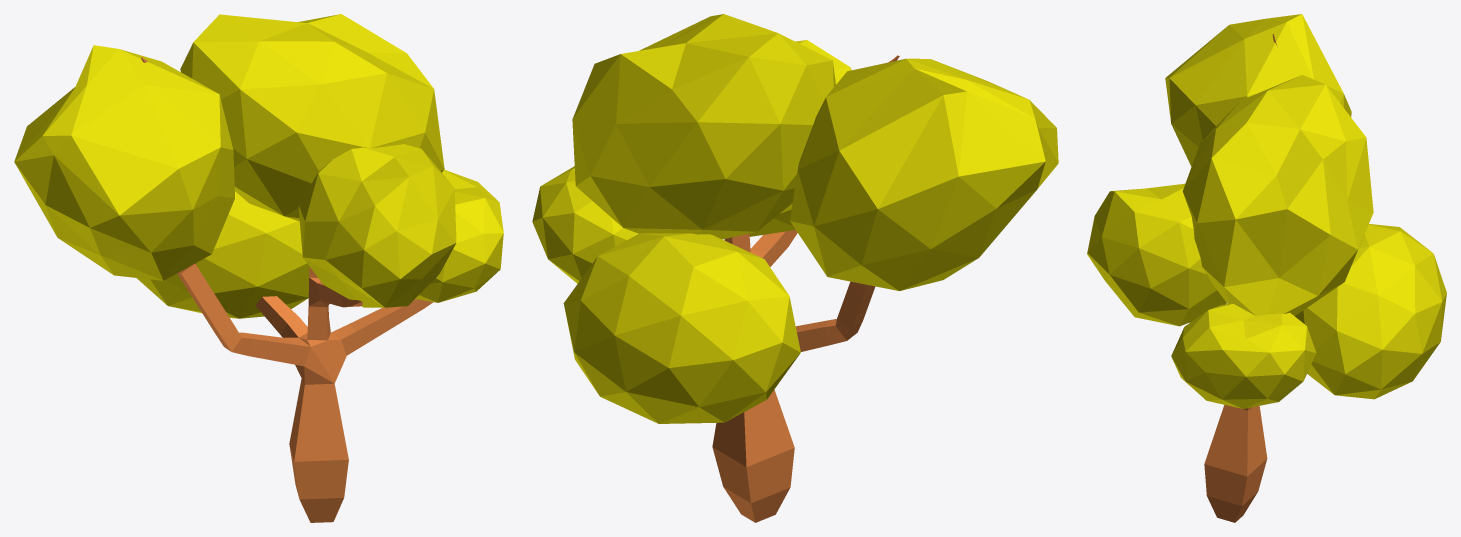
File: tree.glb
The picture shows the model from 3 angles, left to right: view 1: azimuth 30°, elevation 25°; view 2: azimuth 150°, elevation 25°; view 3: azimuth 270°, elevation 25°; orthographic projection. The views are drawn at different scales.
Parts seen in each view (by area): view 1: tree_3; view 2: tree_3; view 3: tree_3.
Boxes of the visible parts, x1,y1,x2,y2 form: tree_3: [14, 14, 503, 522]; tree_3: [532, 14, 1058, 522]; tree_3: [1087, 14, 1446, 522].
Bounding box in the file's own units: 5.04 × 5 × 3.84.
